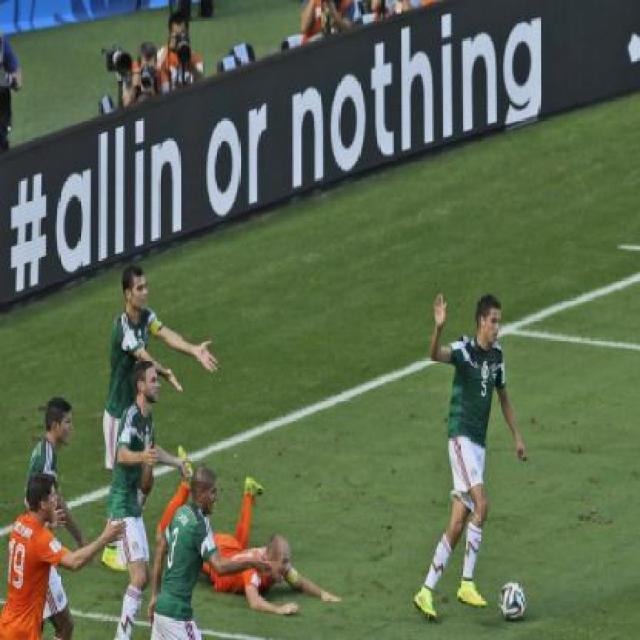fall: (175, 459, 342, 627)
